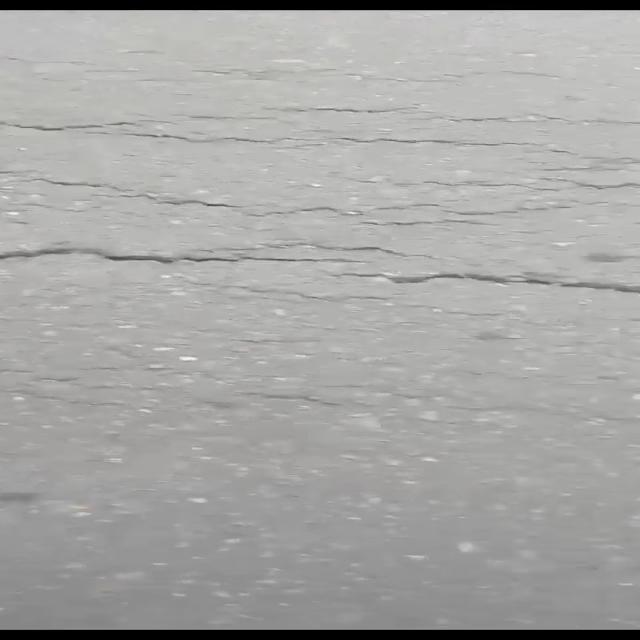Melintang: (0, 237, 416, 285), (356, 254, 640, 308)
